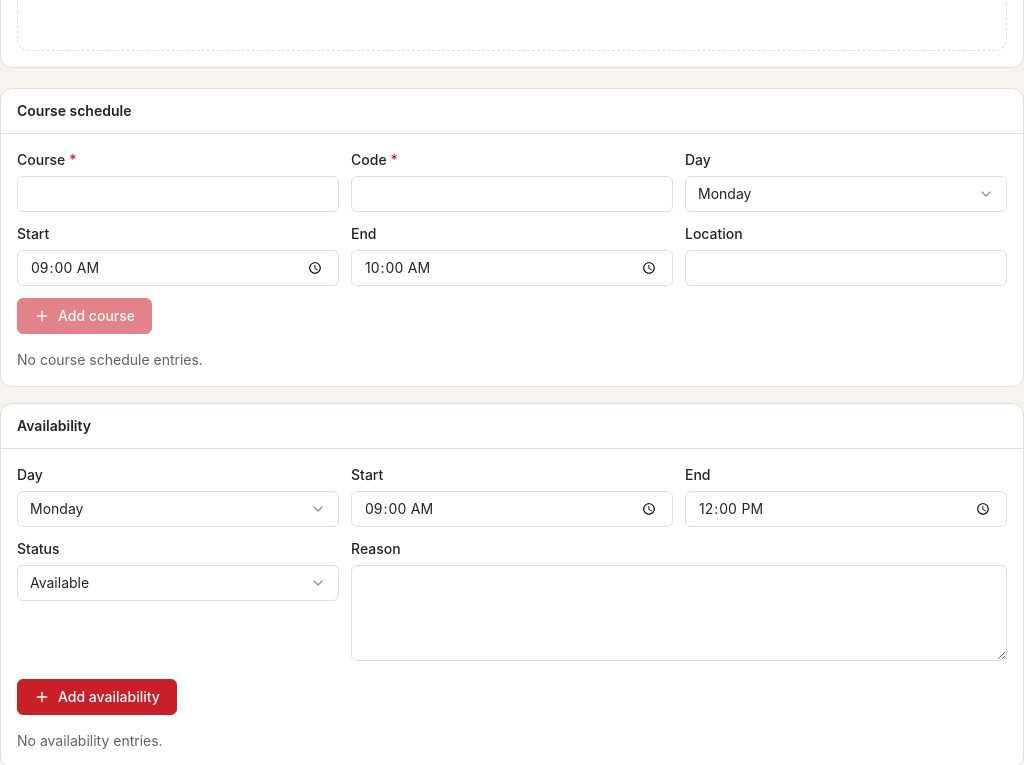
Test case: SchedulePage availability workflow › displays a clear conflict message for real availability overlaps
(page scrolled)
Click the button "Add availability": click(97, 697) [17,679,177,715]
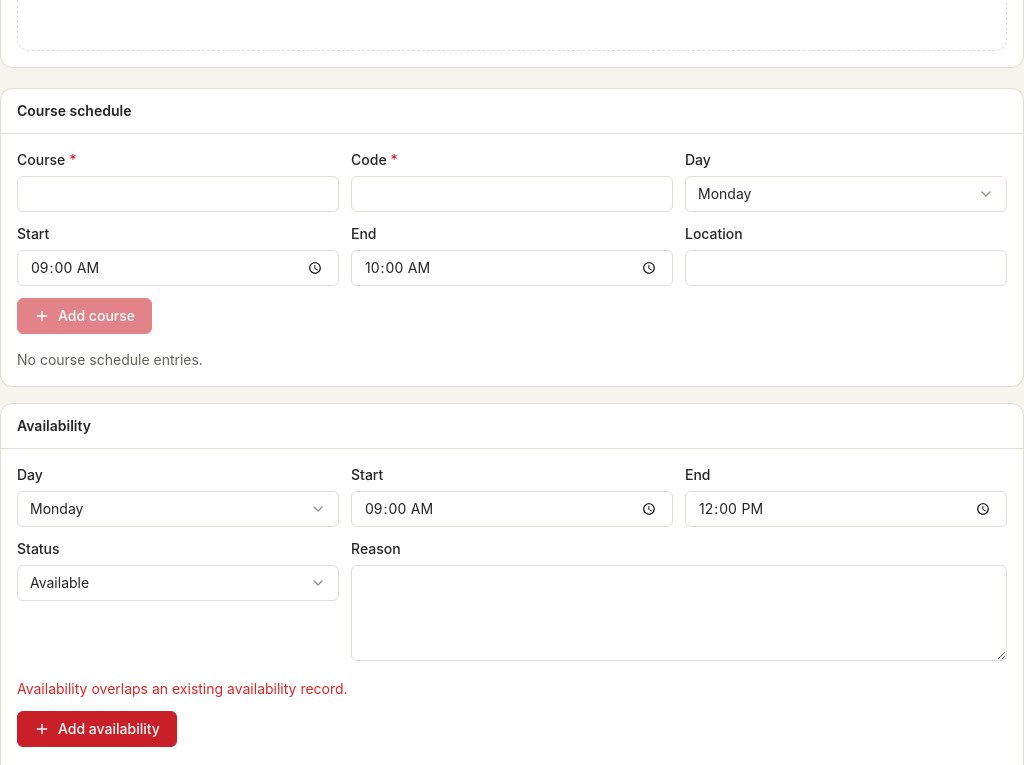
Check: the message reads "Availability overlaps an existing availability record.", box [17,680,348,697]
